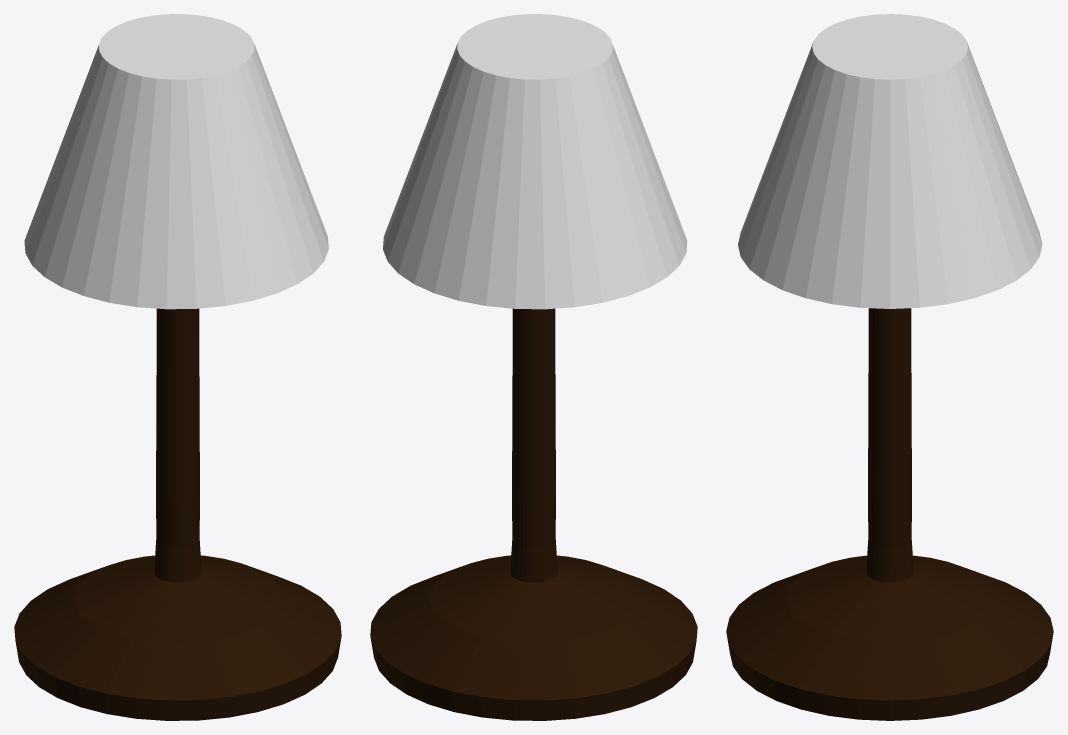
The model's file is Lamp.fbx.
3 renders of one model, left to right at view 1: azimuth 30°, elevation 25°; view 2: azimuth 150°, elevation 25°; view 3: azimuth 270°, elevation 25°, orthographic.
Parts seen in each view (by area): view 1: Cylinder.001, Cylinder; view 2: Cylinder.001, Cylinder; view 3: Cylinder.001, Cylinder.
Boxes of the visible parts, box(x1,y1,x2,y2) form: Cylinder.001: box(24, 14, 328, 309); Cylinder: box(14, 308, 341, 720); Cylinder.001: box(383, 14, 687, 309); Cylinder: box(370, 308, 697, 720); Cylinder.001: box(738, 14, 1042, 308); Cylinder: box(726, 308, 1053, 720).
Size of the model in its own units: 111 by 226 by 111.
